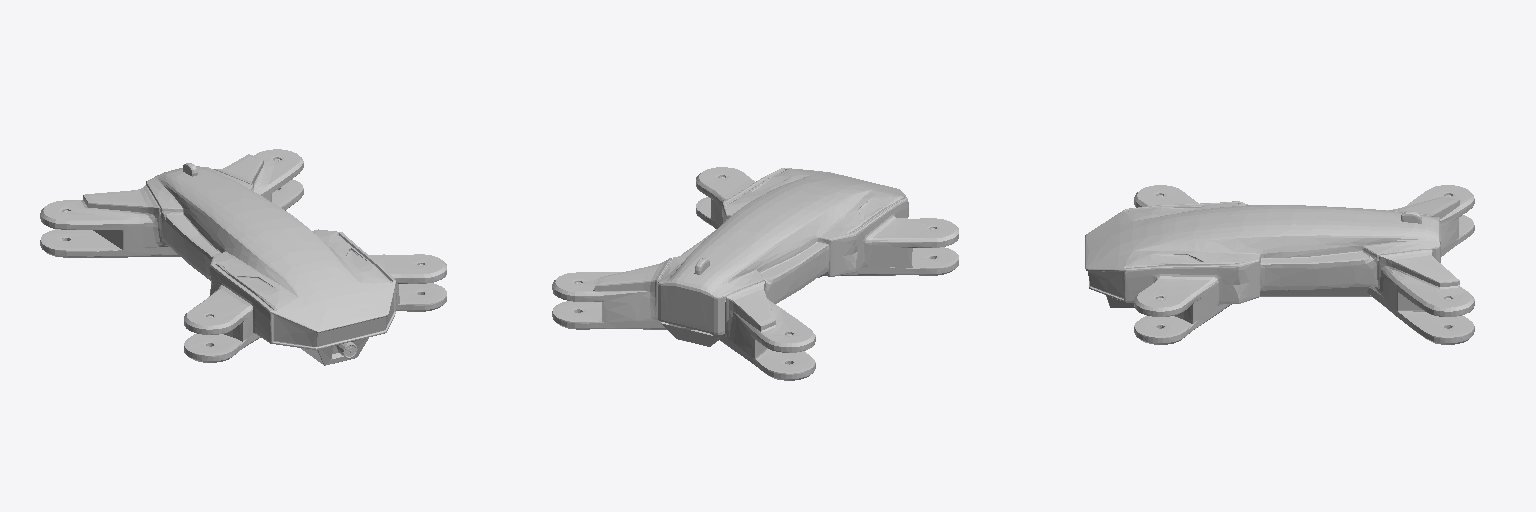
Rendered from droneBody.obj.
3 views of the same model, side by side, from view 1: azimuth 30°, elevation 25°; view 2: azimuth 150°, elevation 25°; view 3: azimuth 270°, elevation 25° (orthographic).
Visible parts, largest first — view 1: 4_L_Sphere010.010; view 2: 4_L_Sphere010.010; view 3: 4_L_Sphere010.010.
Part boxes in pixels (bbox=[...]): 4_L_Sphere010.010: bbox=[40, 149, 446, 365]; 4_L_Sphere010.010: bbox=[552, 167, 958, 380]; 4_L_Sphere010.010: bbox=[1085, 185, 1474, 344].
Size of the model in its own units: 1 by 0.3285 by 1.32.